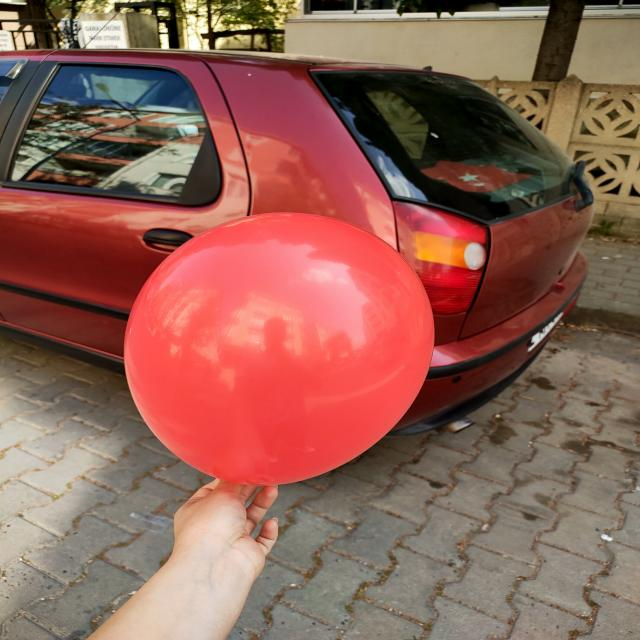red: (127, 211, 436, 486)
